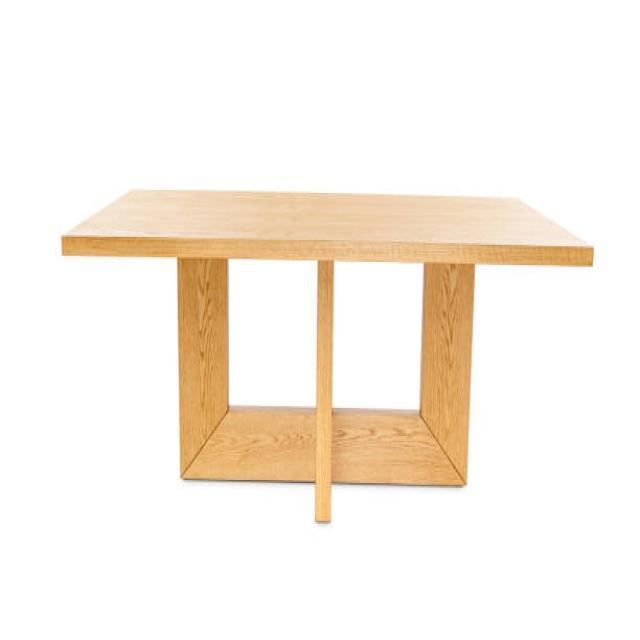table: (61, 185, 594, 522)
